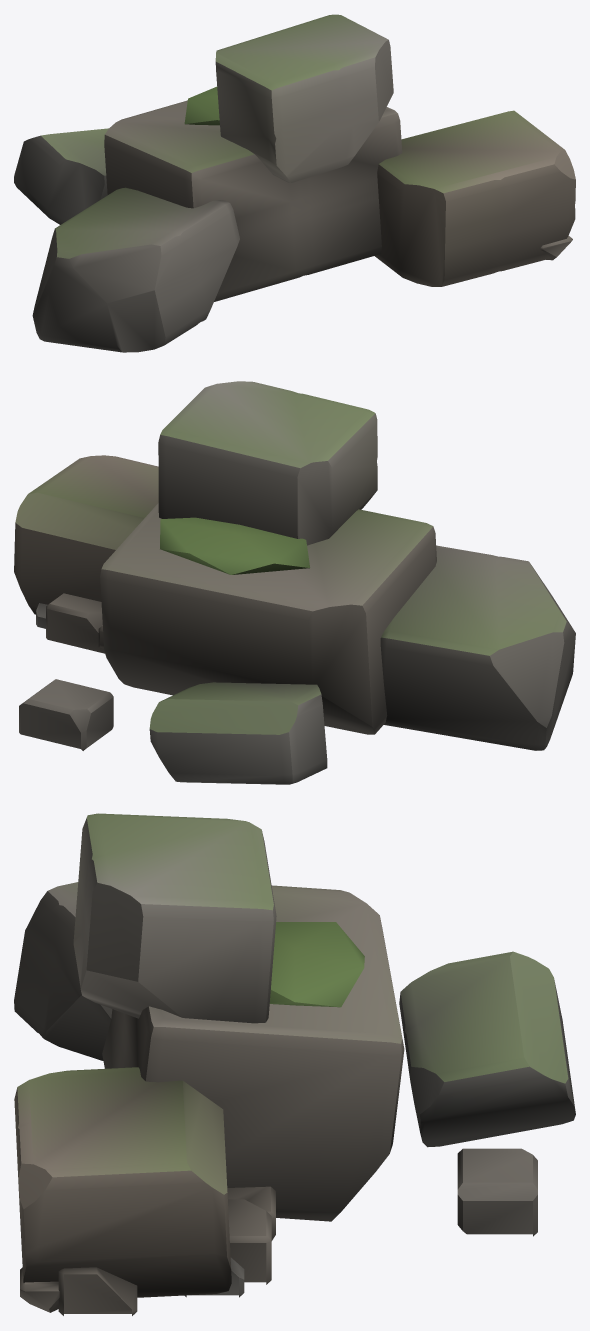
Rendered from ruins-rubble-a-v3.glb.
3 views of the same model, one above another, from view 1: azimuth 30°, elevation 25°; view 2: azimuth 150°, elevation 25°; view 3: azimuth 270°, elevation 25° (orthographic). The views are drawn at different scales.
Parts seen in each view (by area): view 1: 0_ruins_rubble_0; view 2: 0_ruins_rubble_0; view 3: 0_ruins_rubble_0.
Boxes of the visible parts, x1,y1,x2,y2 form: 0_ruins_rubble_0: (14, 14, 575, 352); 0_ruins_rubble_0: (14, 381, 575, 784); 0_ruins_rubble_0: (14, 813, 575, 1315).
Bounding box in the file's own units: 1.51 × 0.7153 × 1.08.
